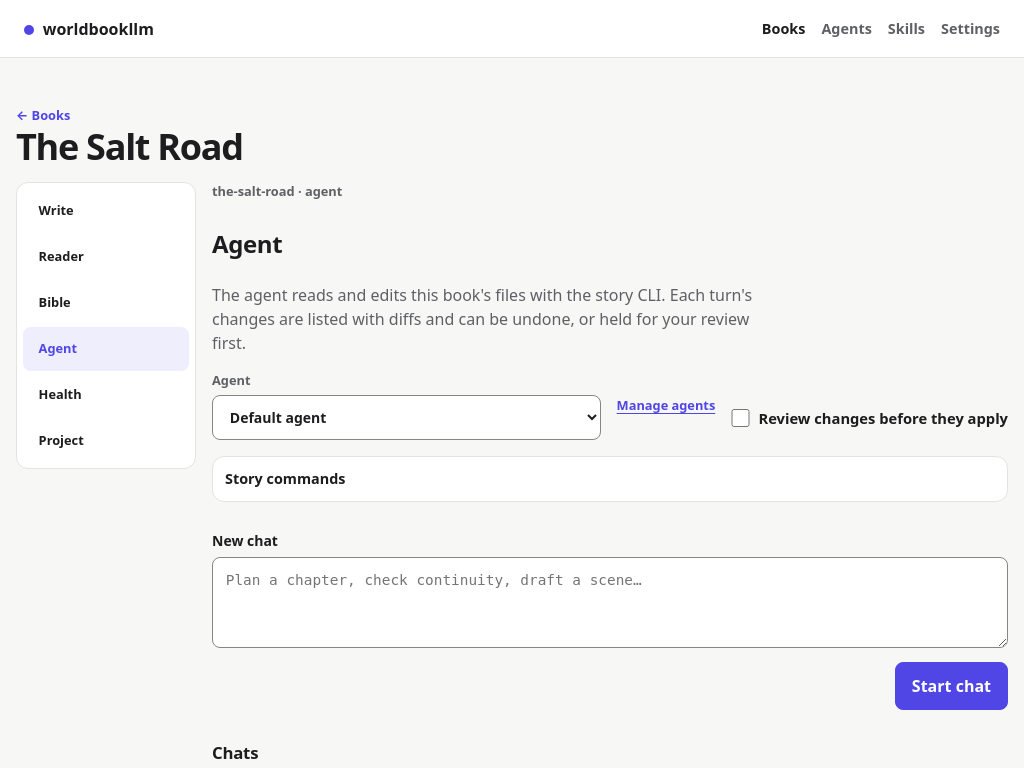
Scenario: agent tab › keeps a new chat’s first message when switching book tabs
Type "Outline act two" into the text box labelled "New chat".
click(610, 602); type("Outline act two")  # box [212,557,1008,648]
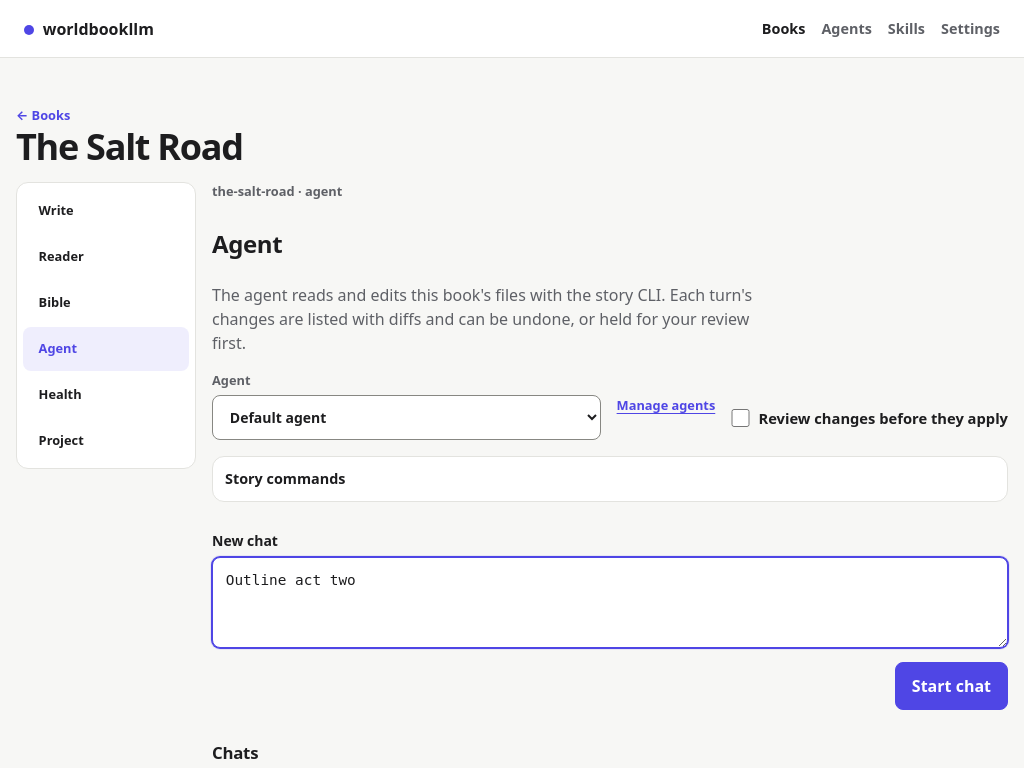
Click the link "Bible".
click(55, 302)  # box [39,293,71,311]
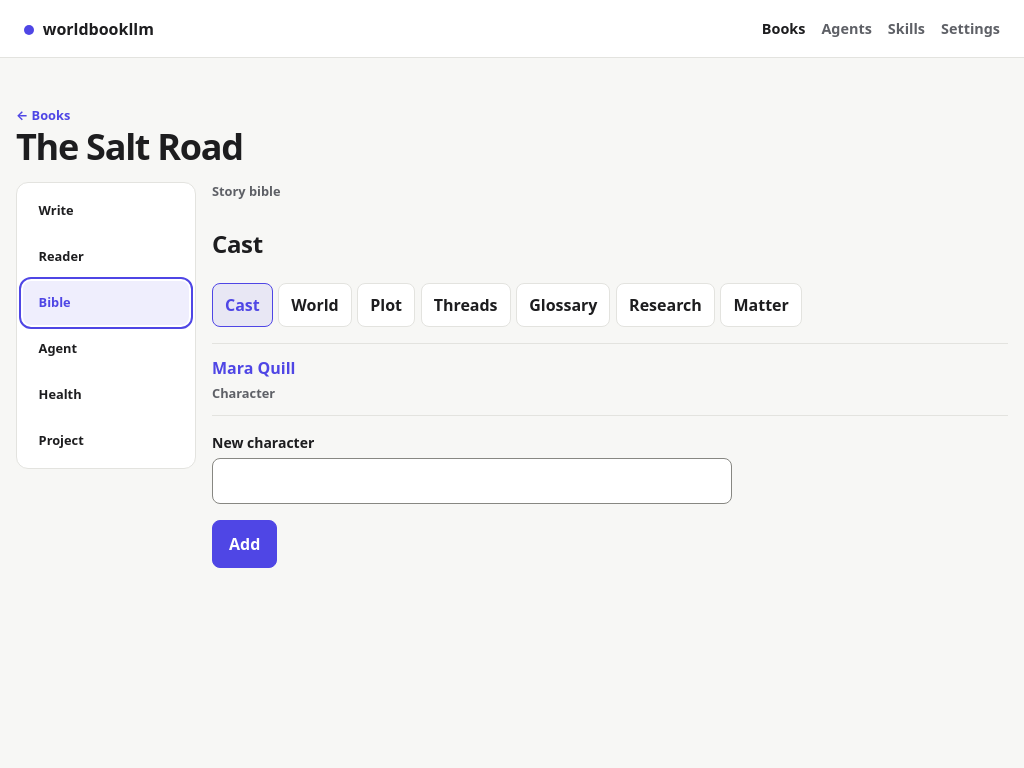
Expected: the label labelled "New chat" is gone
Click the link "Agent".
click(58, 348)  # box [39,339,77,357]
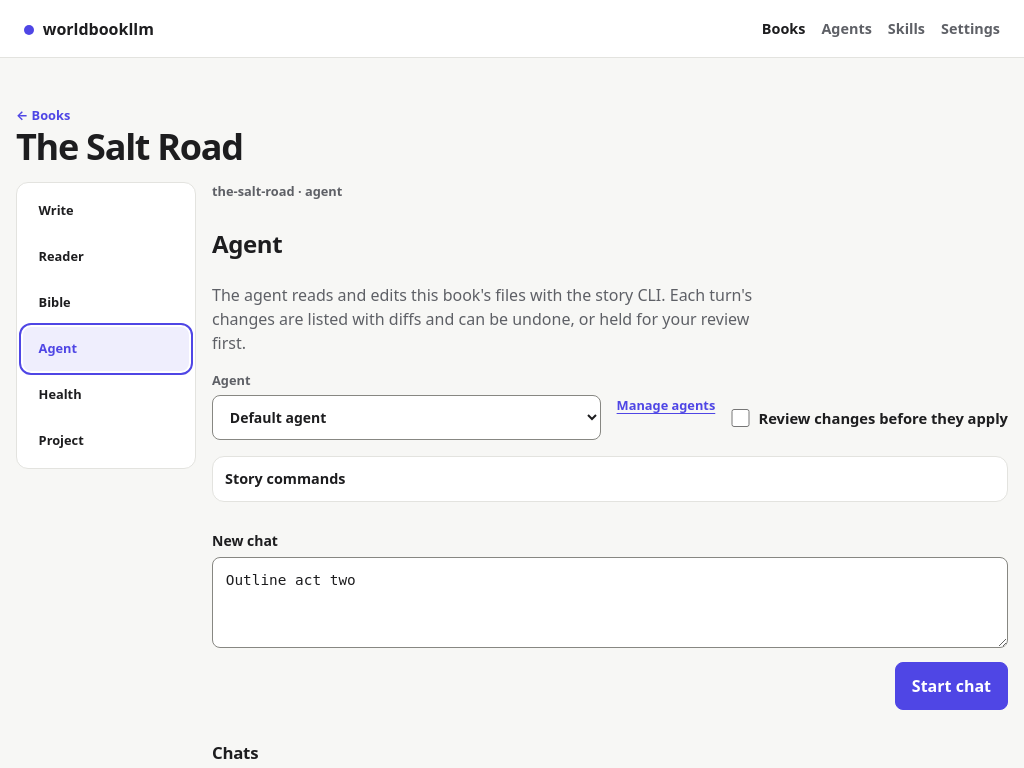
Expected: the text box labelled "New chat" holds "Outline act two", [212,557,1008,648]
